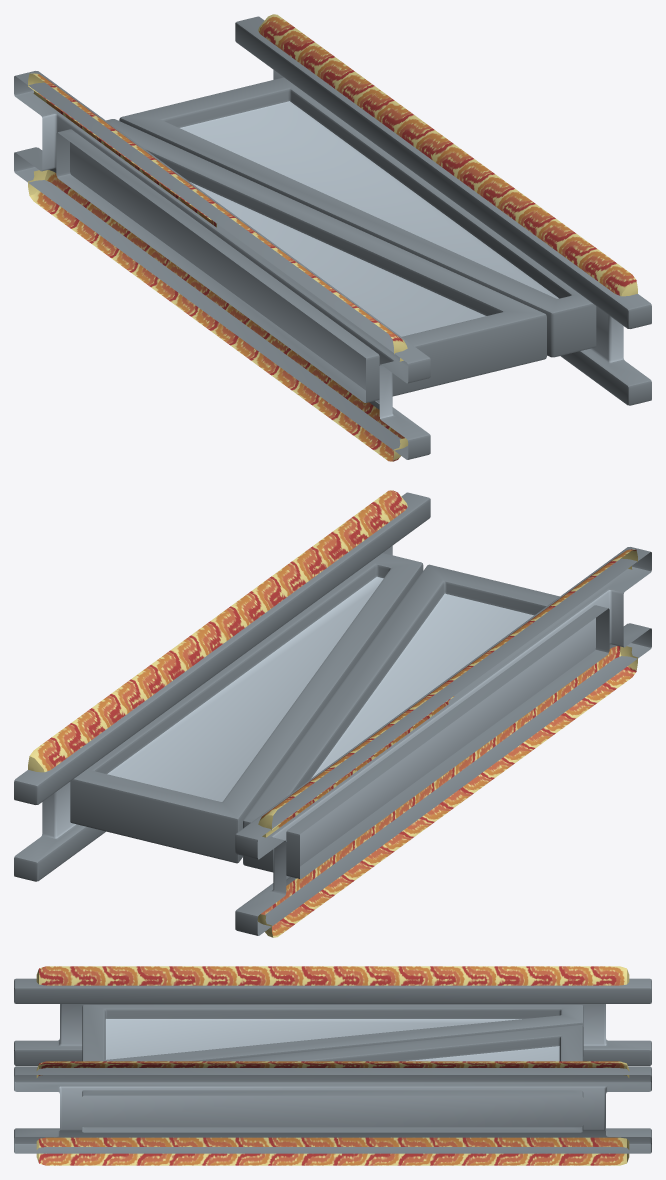
Rendered from SM_Door_50x100.fbx.
3 views of the same model, one above another, from view 1: azimuth 30°, elevation 25°; view 2: azimuth 150°, elevation 25°; view 3: azimuth 270°, elevation 25° (orthographic). The views are drawn at different scales.
Visible parts, largest first — view 1: SM_Door_50x100; view 2: SM_Door_50x100; view 3: SM_Door_50x100.
Boxes of the visible parts, <box> form: SM_Door_50x100: <box>14,14,651,461</box>; SM_Door_50x100: <box>14,490,651,937</box>; SM_Door_50x100: <box>14,966,651,1165</box>.
Size of the model in its own units: 100 by 280 by 49.9.
1 material, 1 textured.
